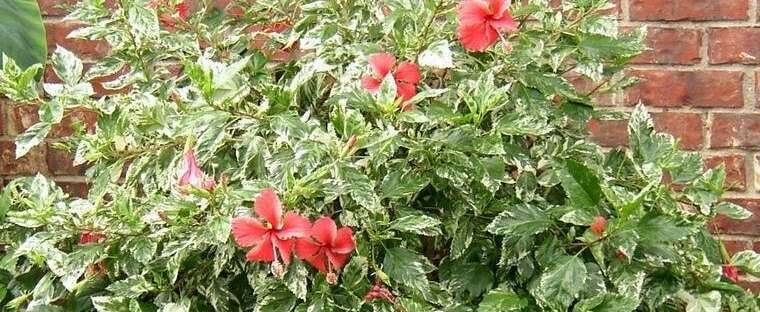Hibiscus-rosa-sinesis: (231, 190, 311, 280), (300, 216, 356, 283), (457, 1, 521, 54), (362, 53, 420, 106)
